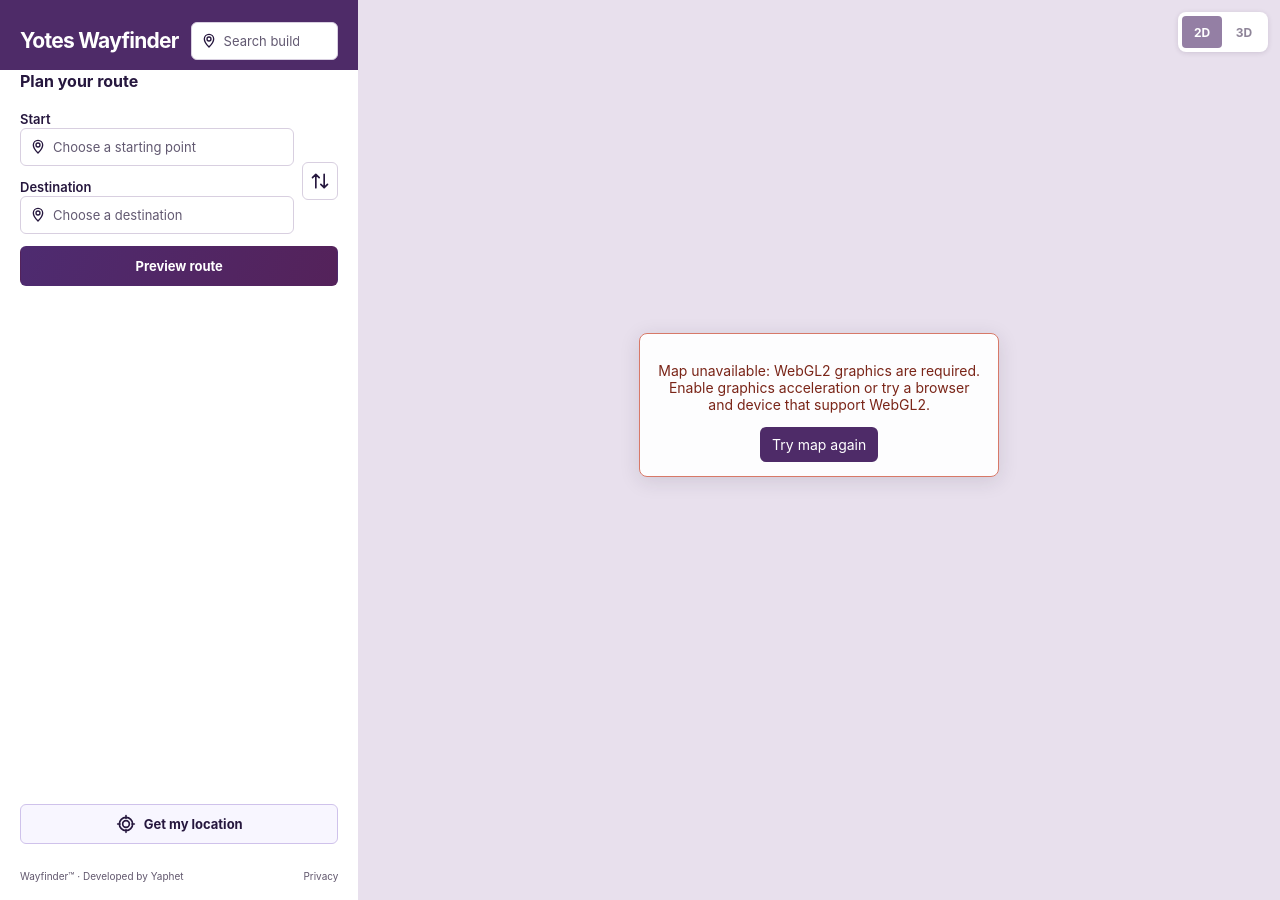
it: App › keeps keyboard focus on search and connects its active descendant to the actual option
Step 1. Click the dropdown labelled "Start" → [157, 147], box [20,128,294,166]
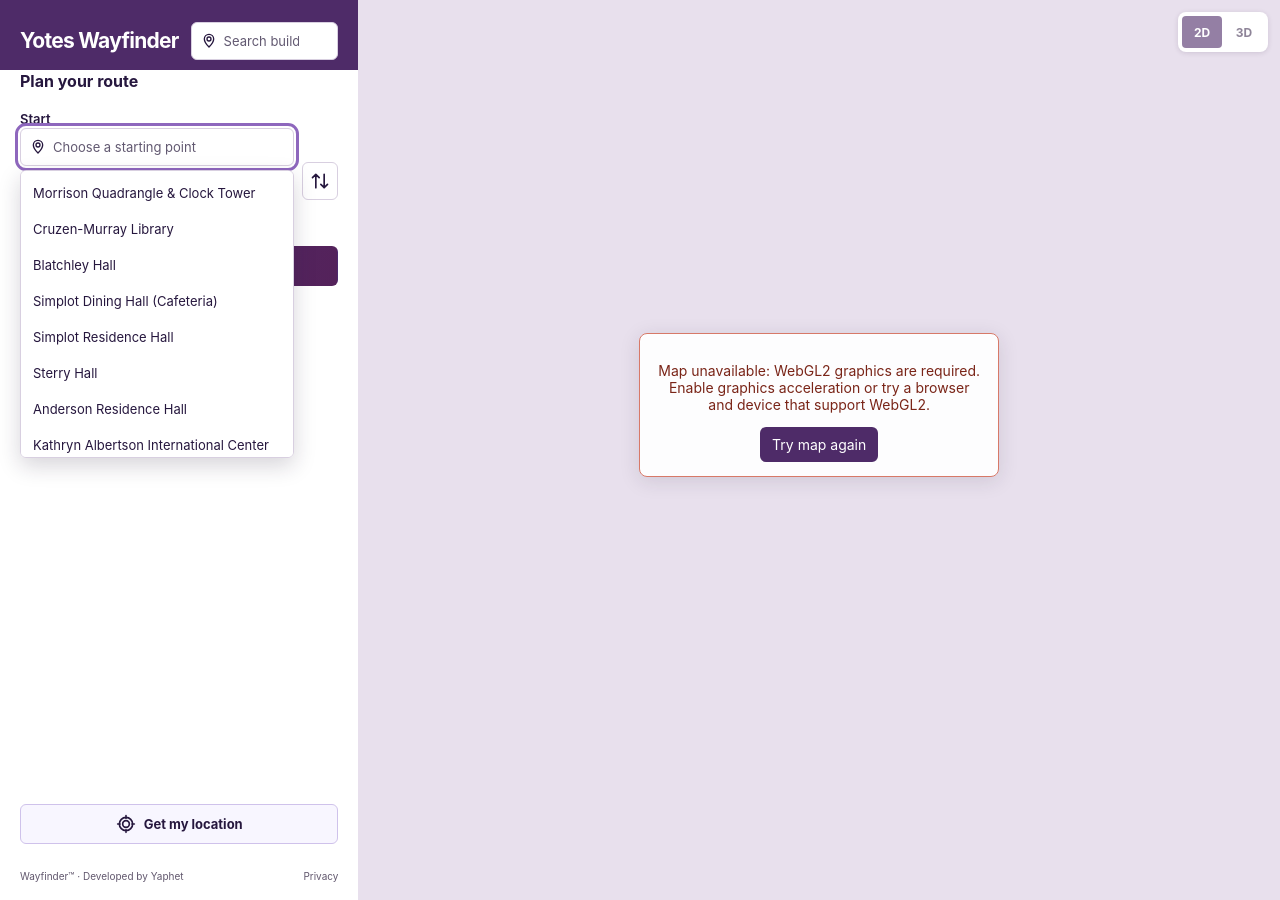
Step 2. Press Arrowdown
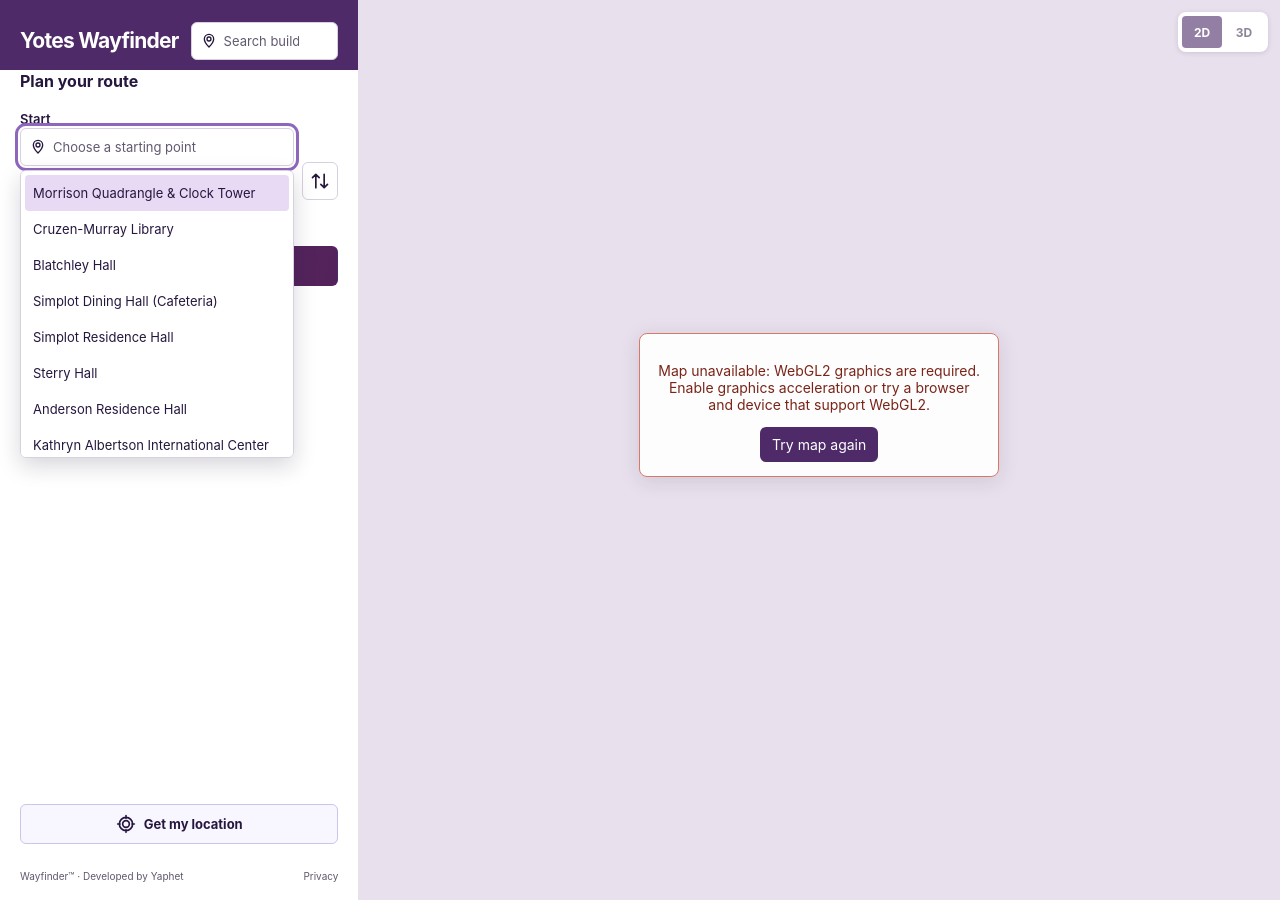
Step 3. Press Escape
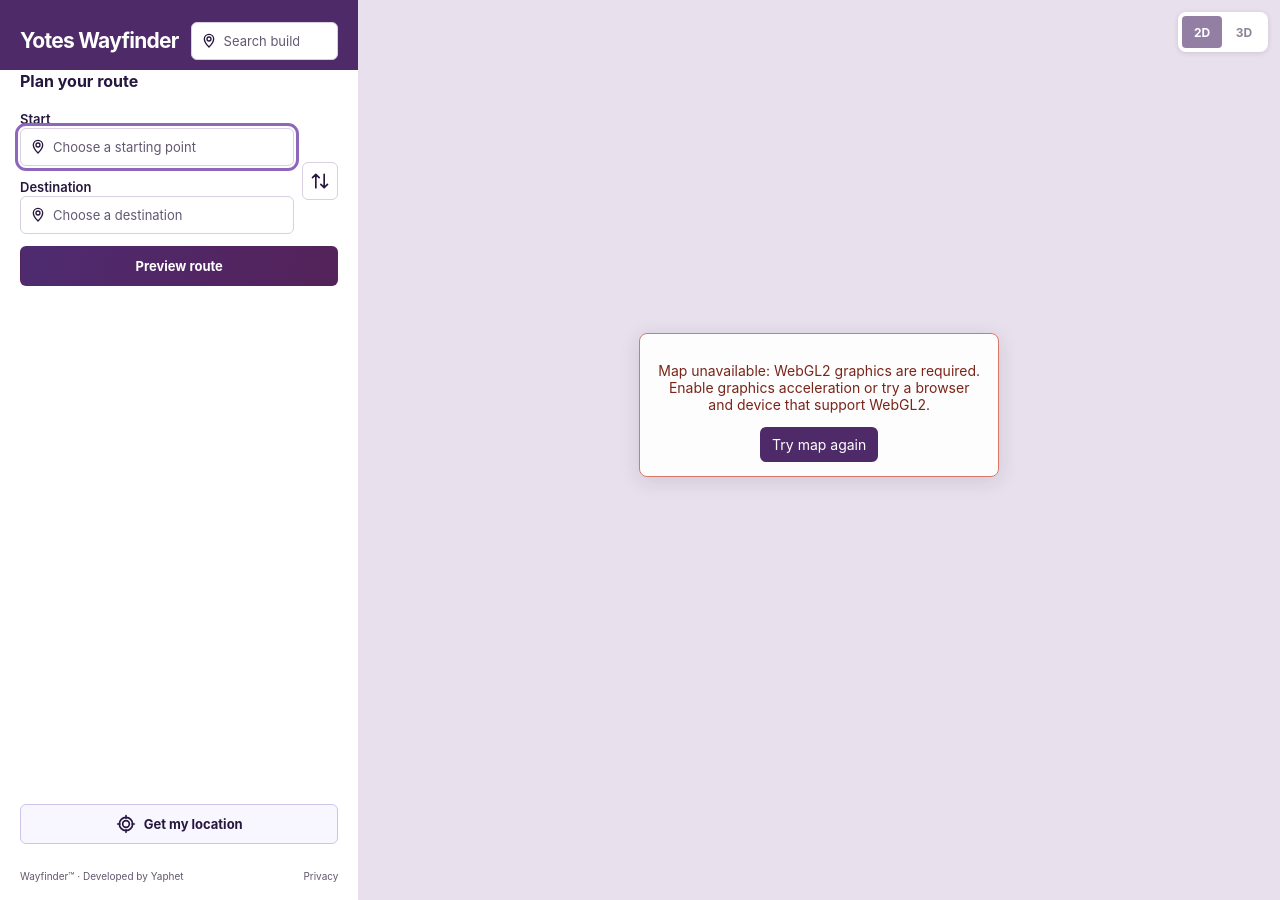
Step 4. Press Arrowup
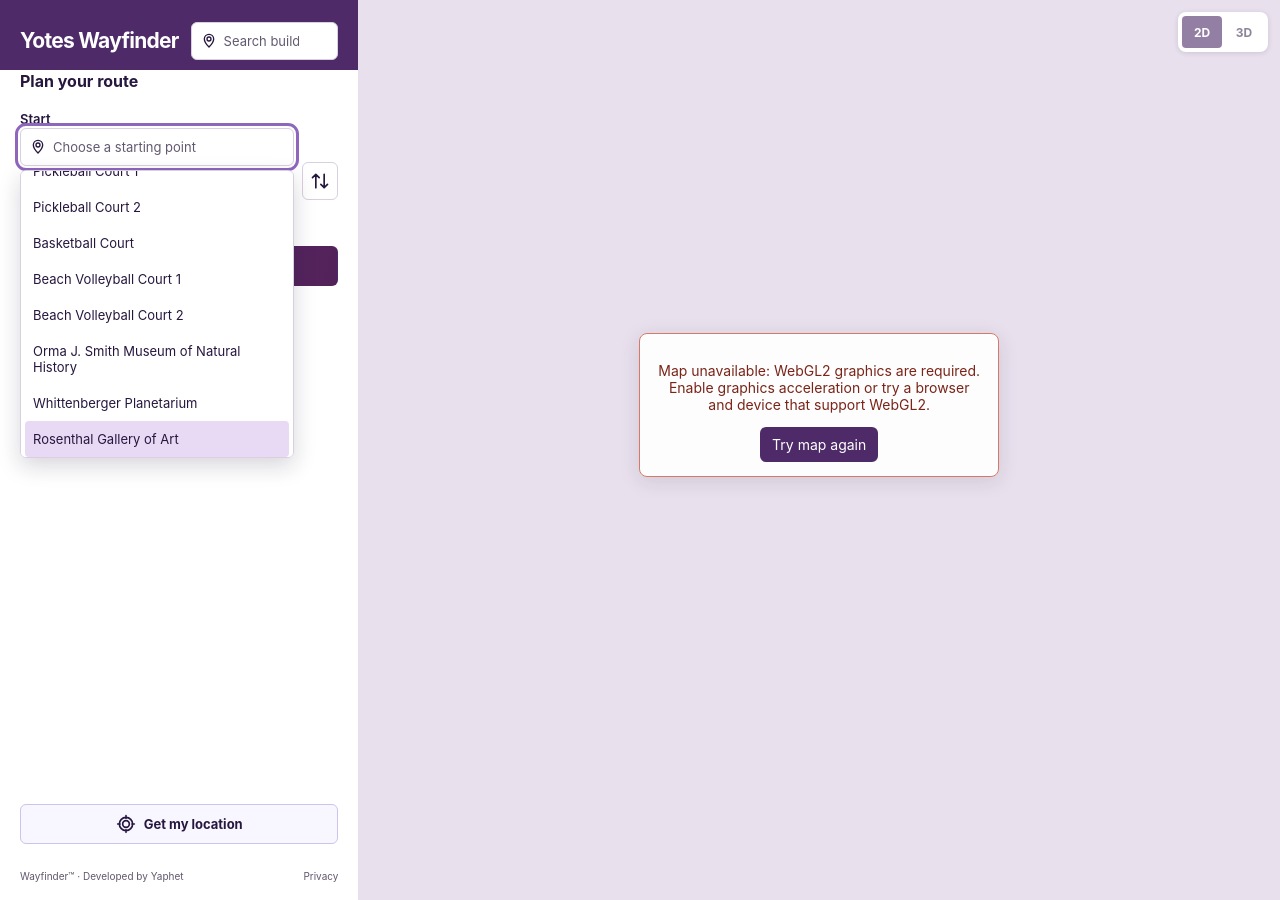
Step 5. Press Tab
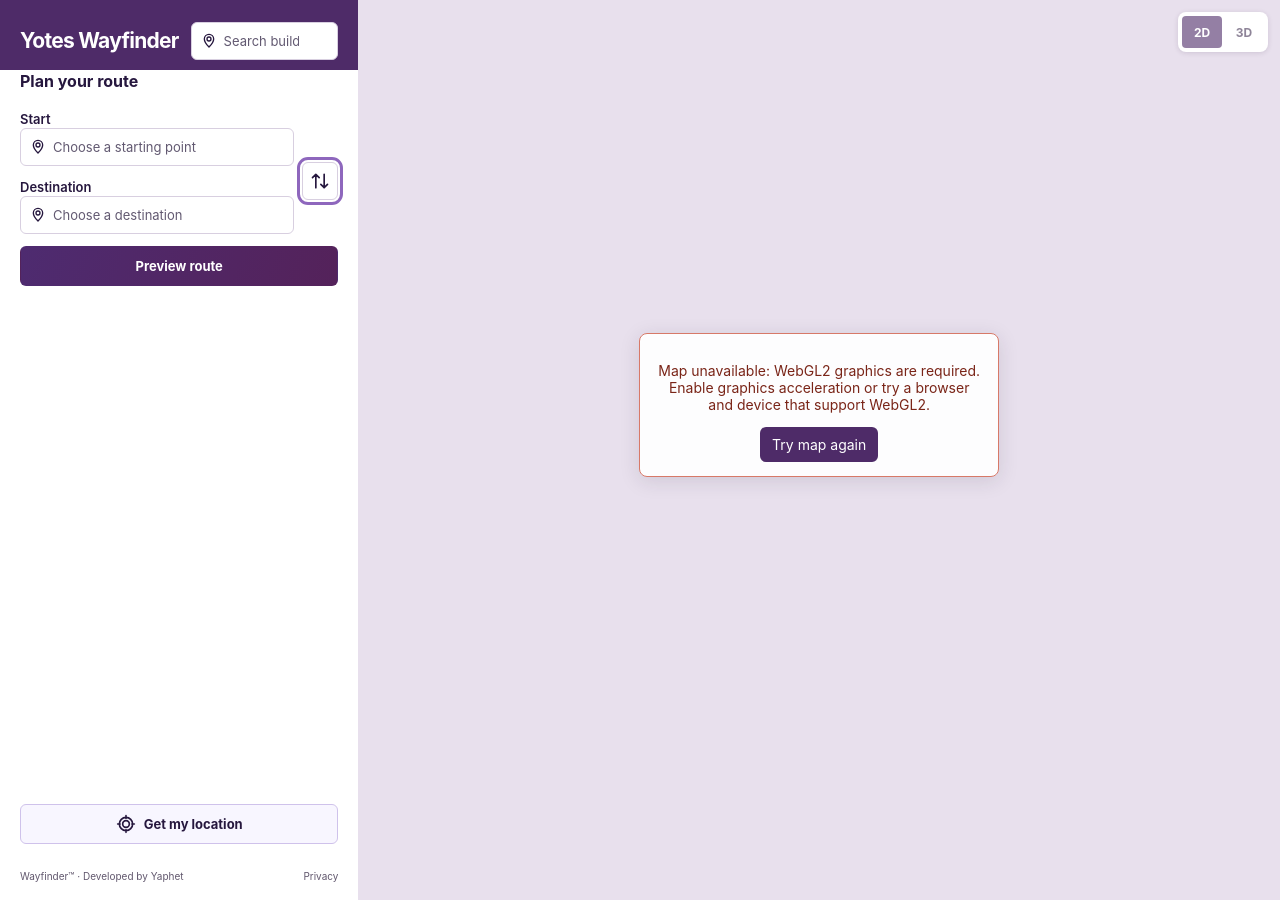
Now the list is gone
